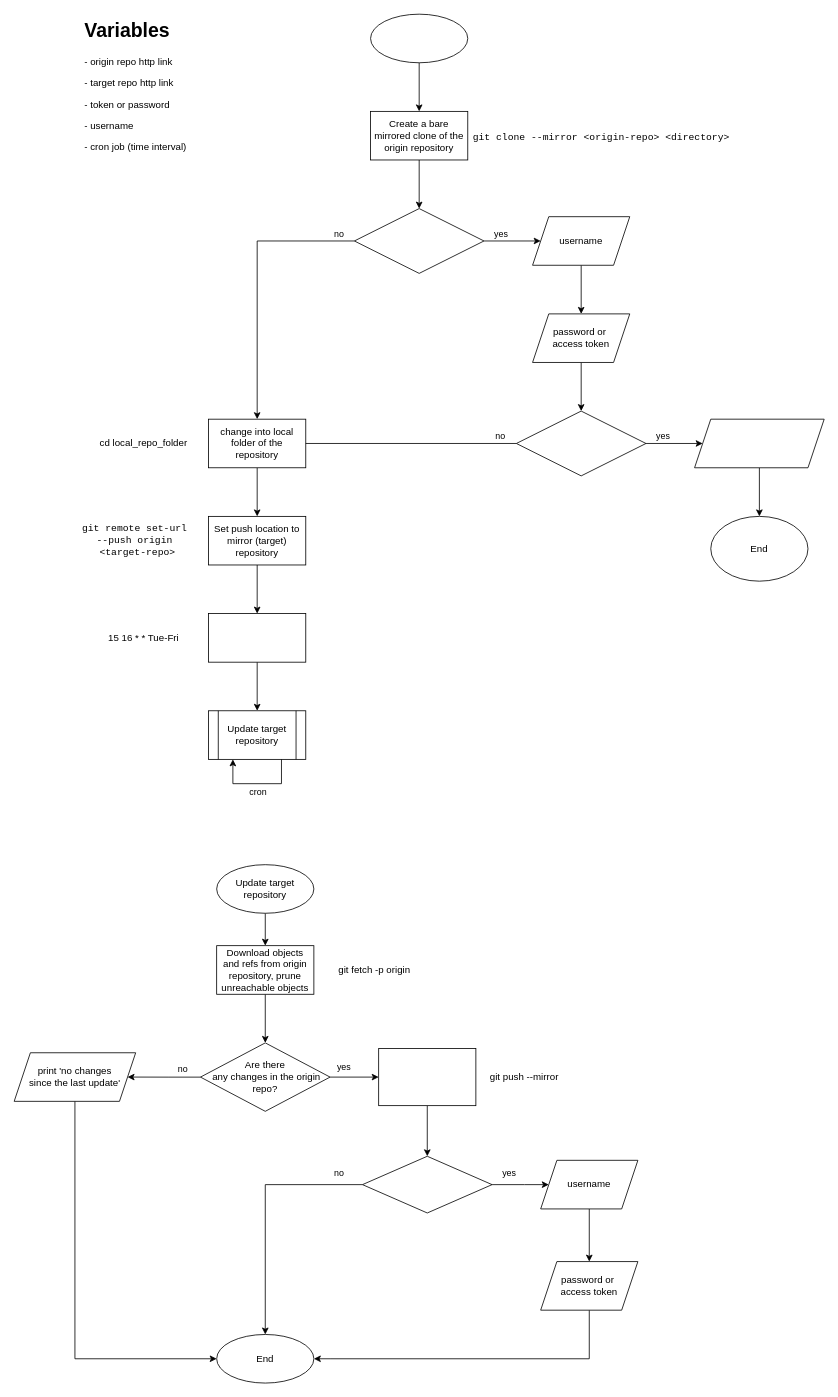
Some shapes in this 838 by 1397 pixel diagram are drawn without their labels. The shapes that lost their labels are listed below. From the top down, each one's centre as x and y in pixels, then its label:
At (419,38): "Start".
At (419,240): "are username and password required?".
At (581,443): "is remote access denied?".
At (759,443): "print 'Access denied, wrong credentials'".
At (257,637): "Set up cron job with user-defined schedule".
At (427,1077): "Update remote refs along with associated objects to target repo".
At (427,1184): "username and password required?".
